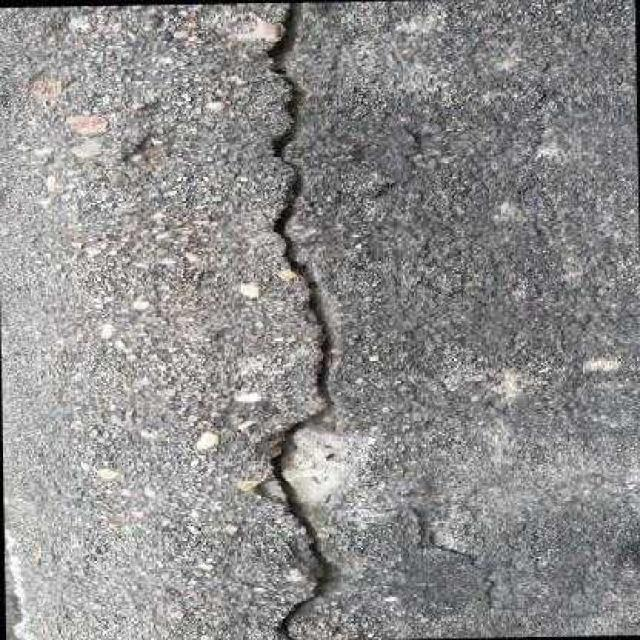D00: (266, 0, 337, 640)
